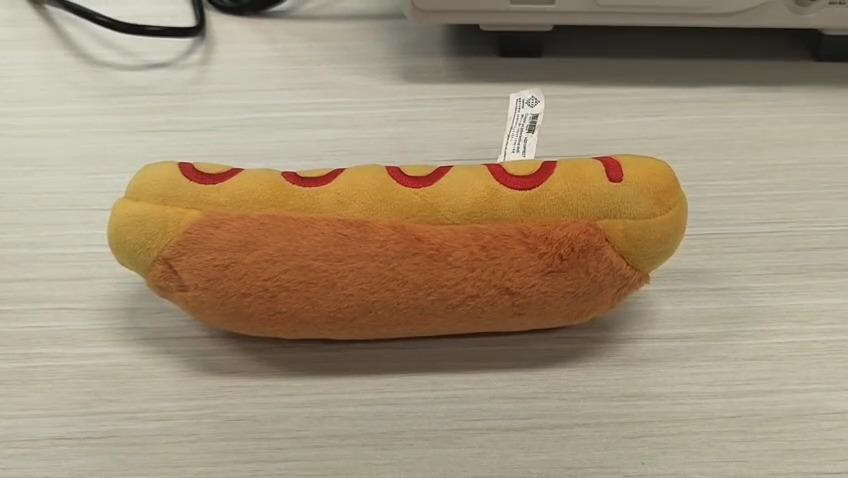hotdog: (106, 161, 688, 342)
